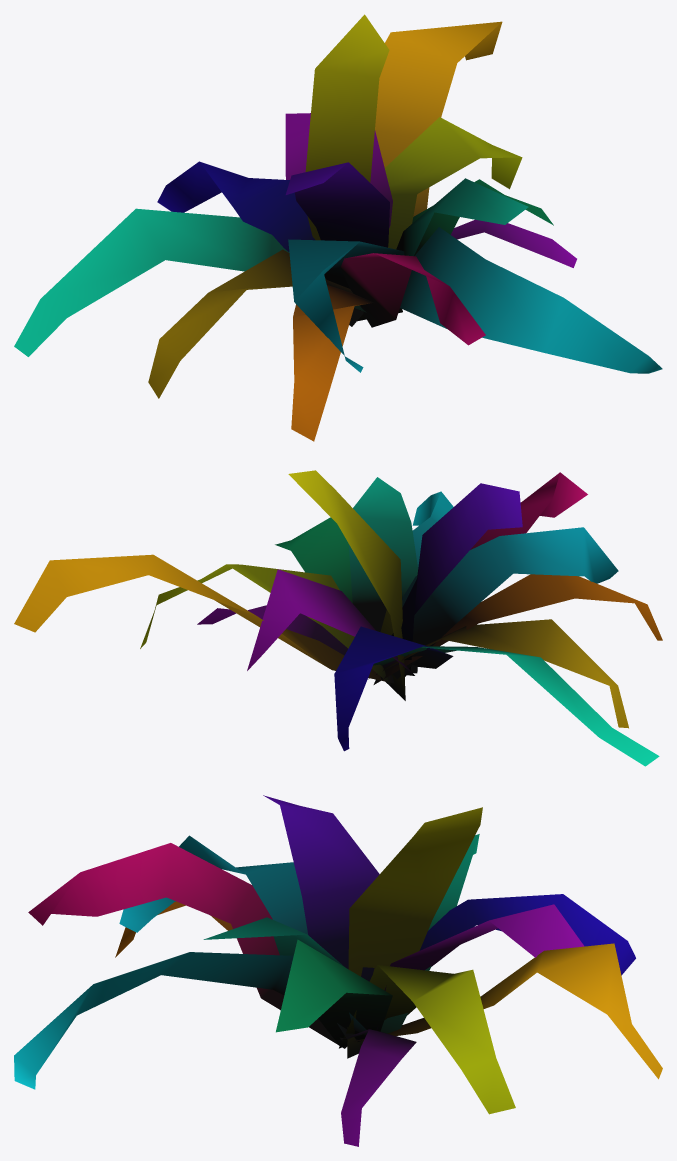
The model's file is fern_02_b.glb.
3 views of the same model, one above another, from view 1: azimuth 30°, elevation 25°; view 2: azimuth 150°, elevation 25°; view 3: azimuth 270°, elevation 25° (orthographic). The views are drawn at different scales.
Visible parts, largest first — view 1: fern_02_b; view 2: fern_02_b; view 3: fern_02_b.
Part boxes in pixels (bbox=[...]): fern_02_b: bbox=[14, 14, 662, 441]; fern_02_b: bbox=[14, 470, 662, 766]; fern_02_b: bbox=[14, 795, 662, 1146].
Size of the model in its own units: 0.9766 by 0.4189 by 0.8868.
